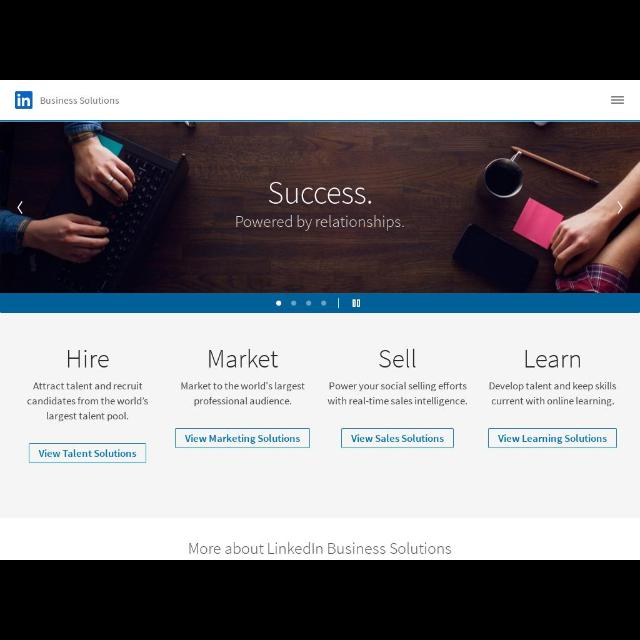icon: (612, 95, 624, 106), (351, 300, 361, 308)
image: (1, 121, 639, 293), (15, 92, 32, 108)
pageindicator: (276, 300, 328, 306)
text: (26, 382, 150, 424), (188, 541, 452, 557), (326, 382, 469, 406), (488, 381, 616, 407), (180, 380, 306, 406), (209, 349, 279, 369), (498, 434, 608, 446), (524, 350, 582, 372), (39, 448, 137, 460), (185, 434, 302, 444), (351, 434, 445, 444), (68, 350, 109, 370), (376, 350, 418, 368), (41, 96, 121, 105)
toolbar: (1, 80, 639, 121)
